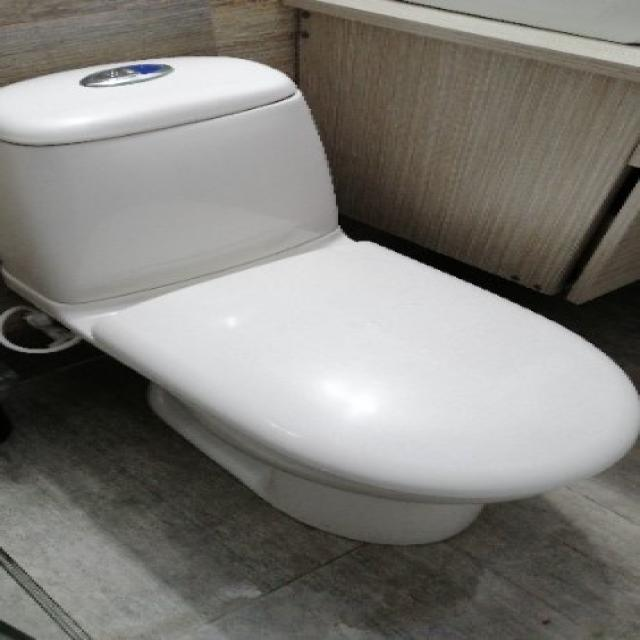toilet: (0, 54, 638, 545)
